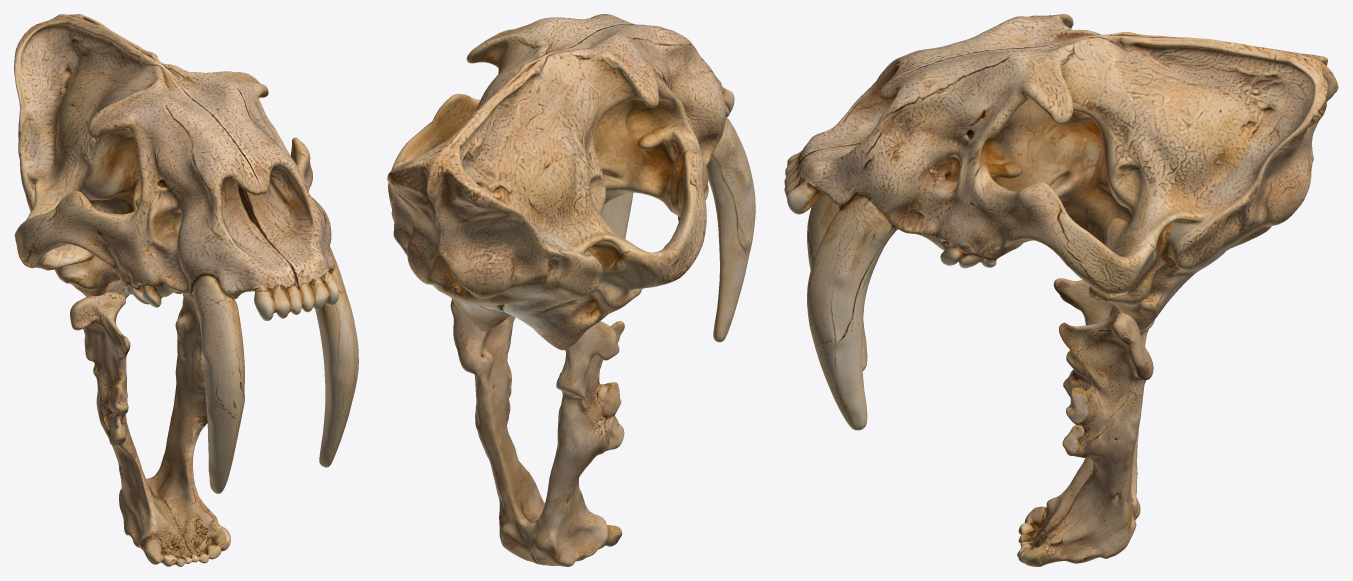
Rendered from smilodon-skull.glb.
3 views of the same model, side by side, from view 1: azimuth 30°, elevation 25°; view 2: azimuth 150°, elevation 25°; view 3: azimuth 270°, elevation 25° (orthographic). The views are drawn at different scales.
Visible parts, largest first — view 1: Smilodon_Cranium, Smilodon_Mandible; view 2: Smilodon_Cranium, Smilodon_Mandible; view 3: Smilodon_Cranium, Smilodon_Mandible.
Boxes of the visible parts, <box> form: Smilodon_Cranium: <box>14,14,358,493</box>; Smilodon_Mandible: <box>70,291,230,566</box>; Smilodon_Cranium: <box>387,14,755,350</box>; Smilodon_Mandible: <box>450,300,624,566</box>; Smilodon_Cranium: <box>784,14,1338,430</box>; Smilodon_Mandible: <box>1017,278,1154,566</box>.
Bounding box in the file's own units: 1.24 × 2 × 1.92.
Materials: 9 (2 with a texture image).
